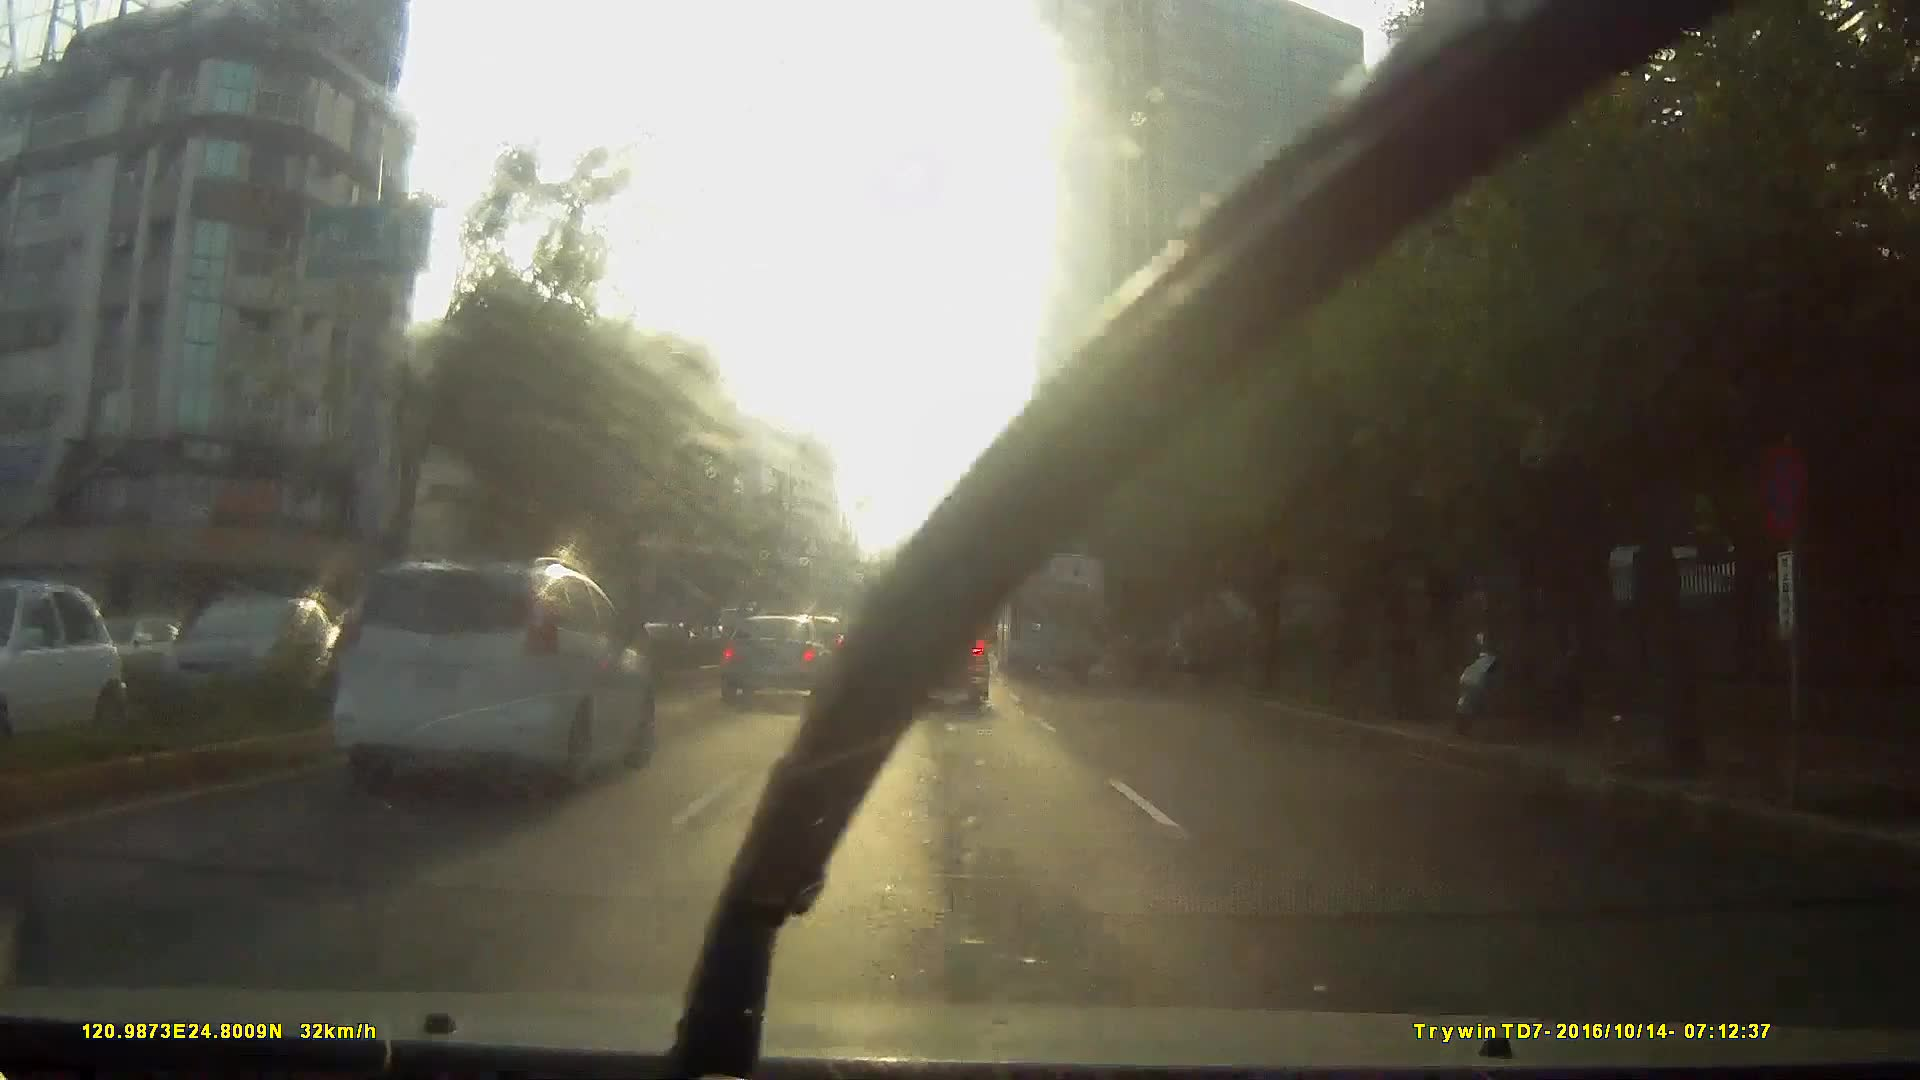vehicle: (251, 556, 684, 868), (324, 553, 655, 796), (1, 580, 153, 762), (160, 597, 349, 721), (1000, 550, 1110, 682), (877, 605, 992, 709), (717, 608, 837, 702), (845, 616, 893, 665)
